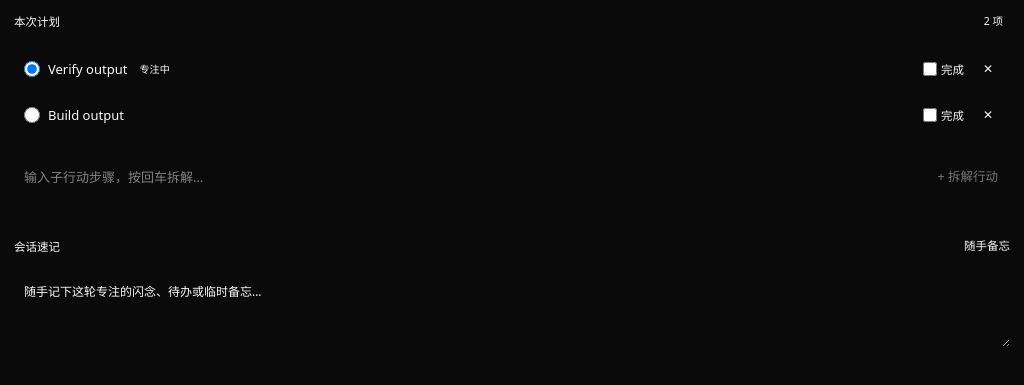
Test case: SessionWorkspace 运行中拆解行动（工单②，文案 2026-10-01 升级） › 失败时保留输入并以 alert 呈现原因（离线创建被禁必须可见）
The image size is (1024, 385).
Type "离线想建" into the field named "新三级标题" at (466, 177), box [14,159,918,195]
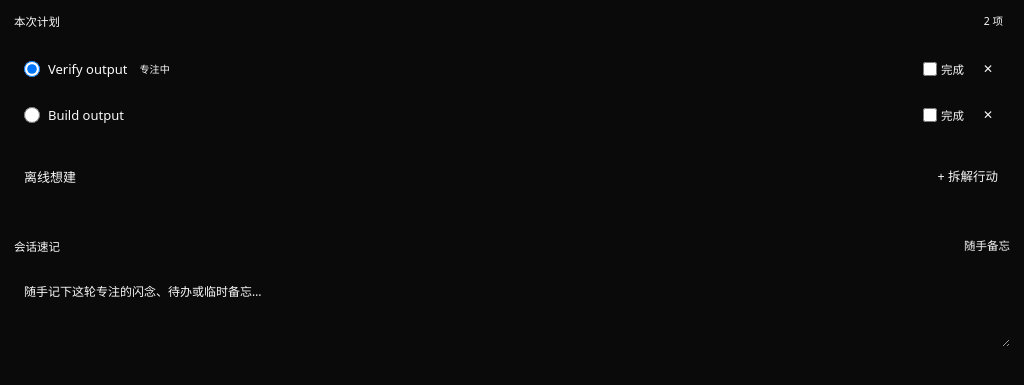
Click the button "+ 拆解行动" at (968, 177), box [926,159,1010,195]
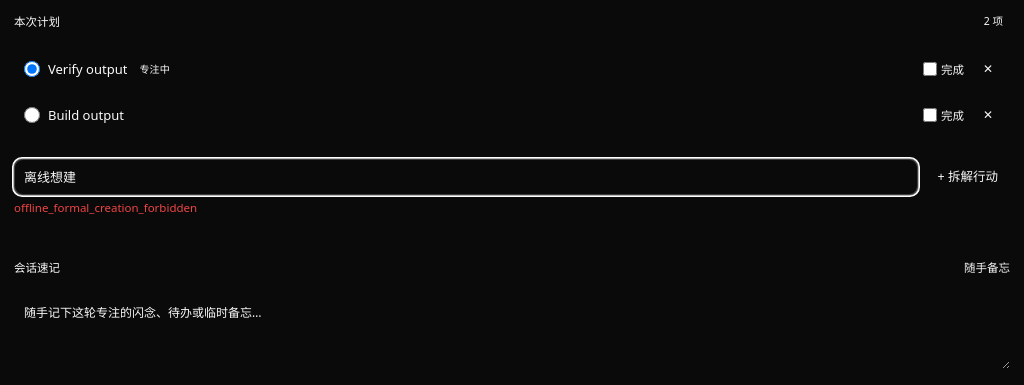
Expected: the message reads "offline_formal_creation_forbidden", [14,200,197,215]
